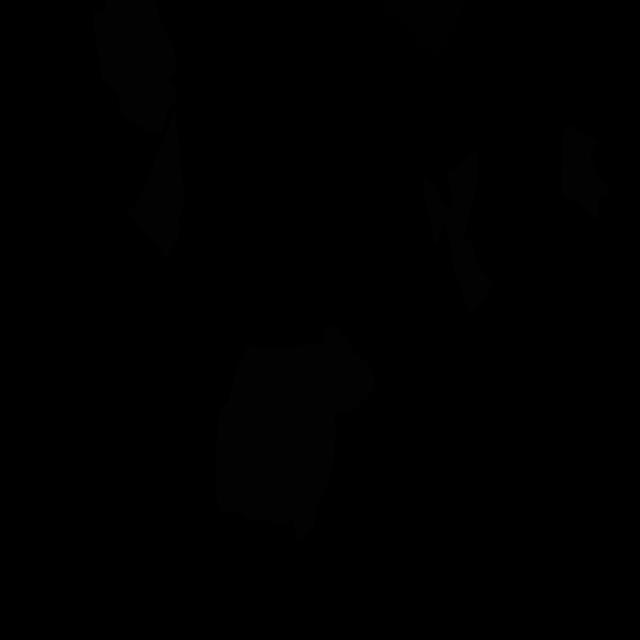cardboard: (215, 326, 376, 540), (423, 147, 494, 314), (92, 0, 178, 134), (121, 109, 185, 259), (561, 124, 612, 221)
rigid_plastic: (384, 0, 463, 59)
